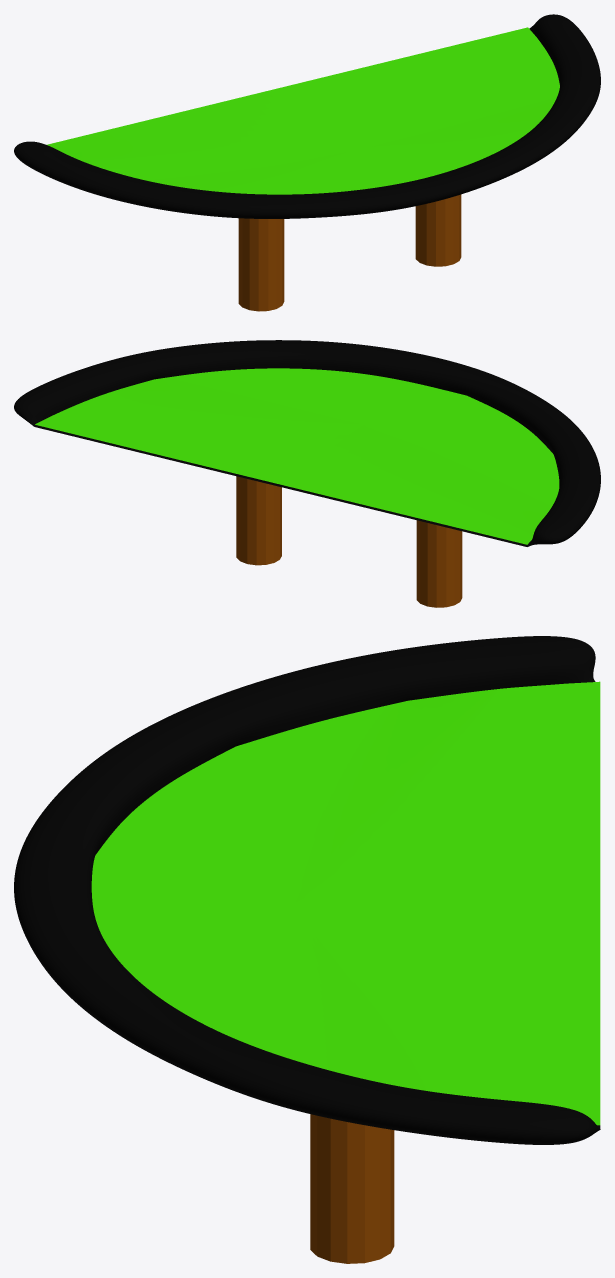
File: table.fbx
3 views of the same model, one above another, from view 1: azimuth 30°, elevation 25°; view 2: azimuth 150°, elevation 25°; view 3: azimuth 270°, elevation 25° (orthographic). The views are drawn at different scales.
Visible parts, largest first — view 1: Cylinder, Cylinder.002, Cylinder.003; view 2: Cylinder, Cylinder.003, Cylinder.002; view 3: Cylinder, Cylinder.003.
Part boxes in pixels (bbox=[...]): Cylinder: bbox=[14, 14, 600, 218]; Cylinder.002: bbox=[238, 218, 284, 311]; Cylinder.003: bbox=[415, 194, 461, 266]; Cylinder: bbox=[14, 340, 600, 546]; Cylinder.003: bbox=[236, 476, 281, 565]; Cylinder.002: bbox=[416, 520, 462, 607]; Cylinder: bbox=[14, 636, 600, 1144]; Cylinder.003: bbox=[310, 1114, 394, 1263].
Bounding box in the file's own units: 705 × 192 × 352.
